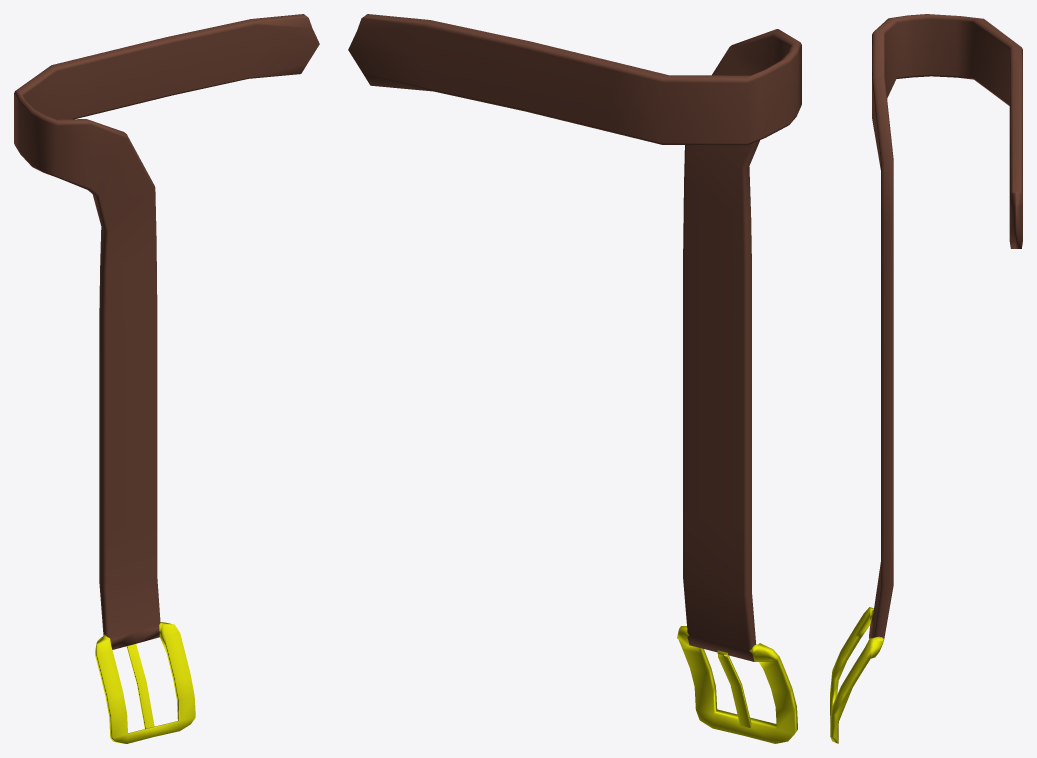
The model's file is Cinto 1.fbx.
3 renders of one model, left to right at view 1: azimuth 30°, elevation 25°; view 2: azimuth 150°, elevation 25°; view 3: azimuth 270°, elevation 25°, orthographic. The views are drawn at different scales.
Parts seen in each view (by area): view 1: Cinto_; view 2: Cinto_; view 3: Cinto_.
Boxes of the visible parts, x1,y1,x2,y2 form: Cinto_: (14, 14, 319, 743); Cinto_: (348, 14, 801, 743); Cinto_: (830, 14, 1022, 743).
Size of the model in its own units: 22.61 by 40.77 by 10.57.
